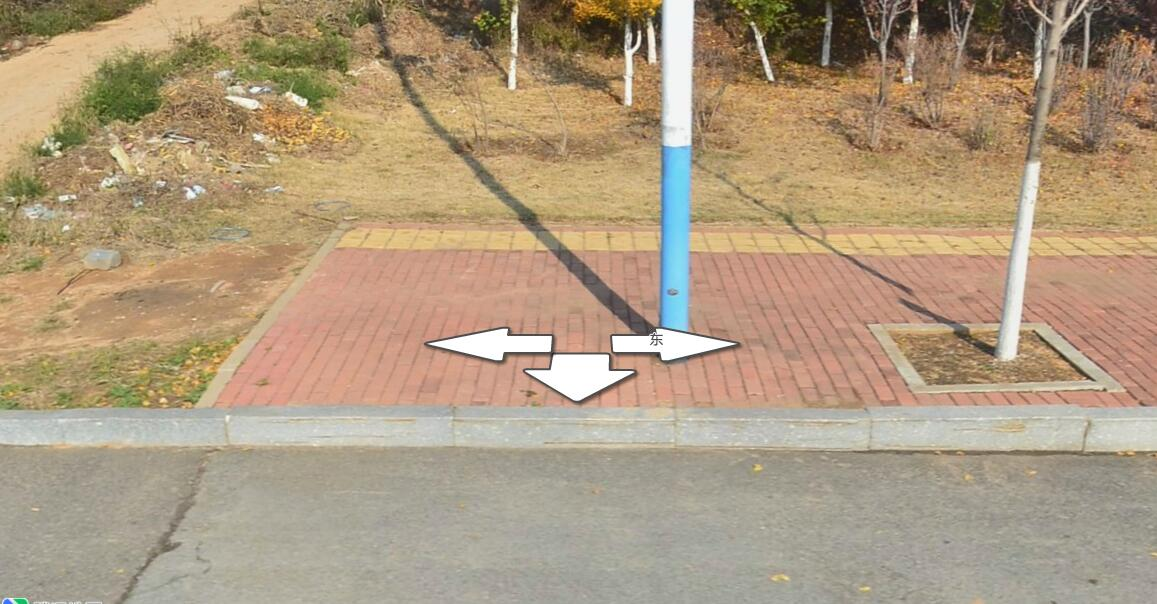side: (872, 407, 1089, 454), (454, 405, 676, 449), (228, 405, 456, 447), (675, 406, 873, 453), (54, 408, 228, 447)
